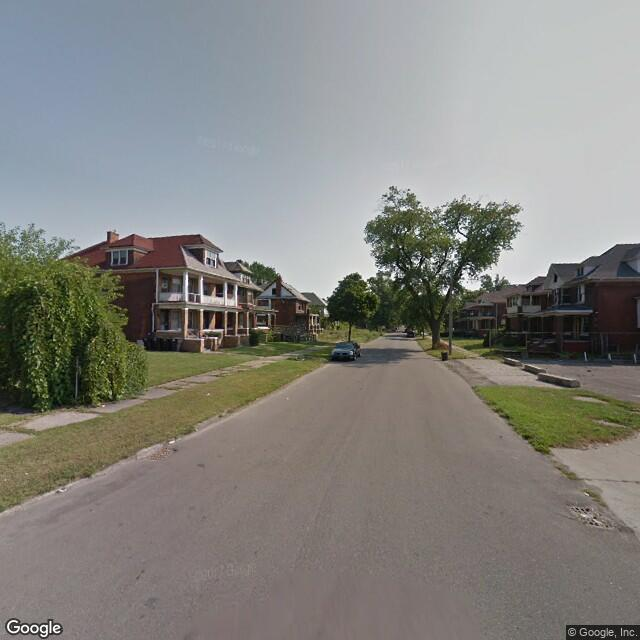litter: (53, 483, 70, 497), (165, 436, 179, 450), (598, 439, 615, 449), (577, 509, 591, 520), (202, 389, 216, 399)
